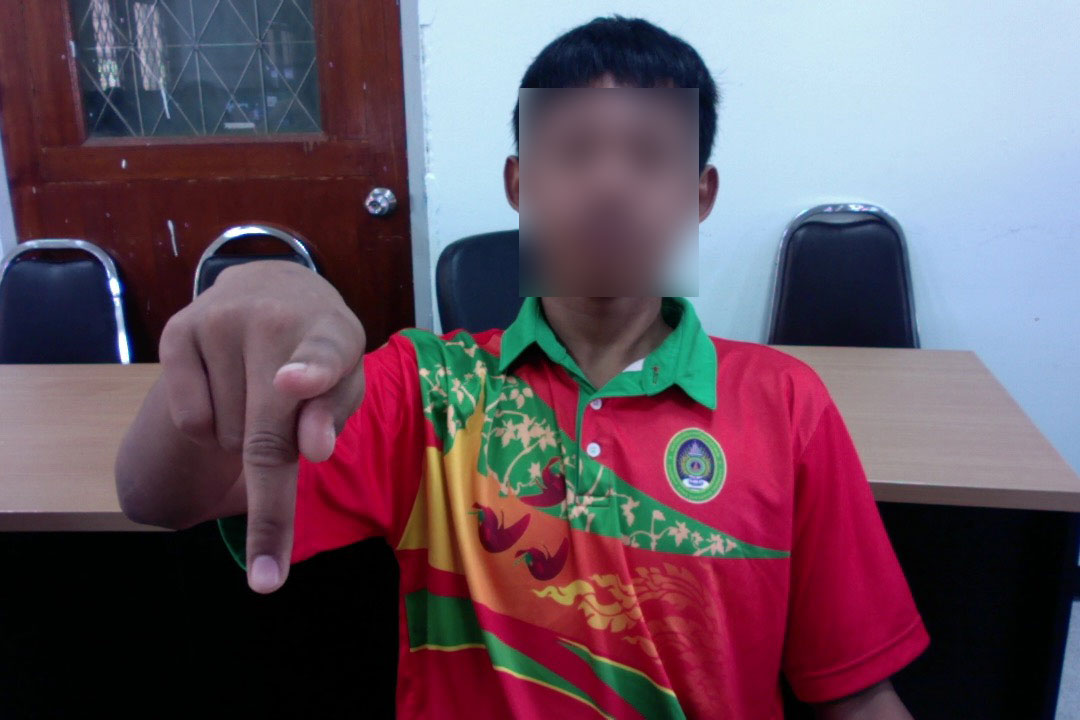por: (144, 249, 378, 606)
